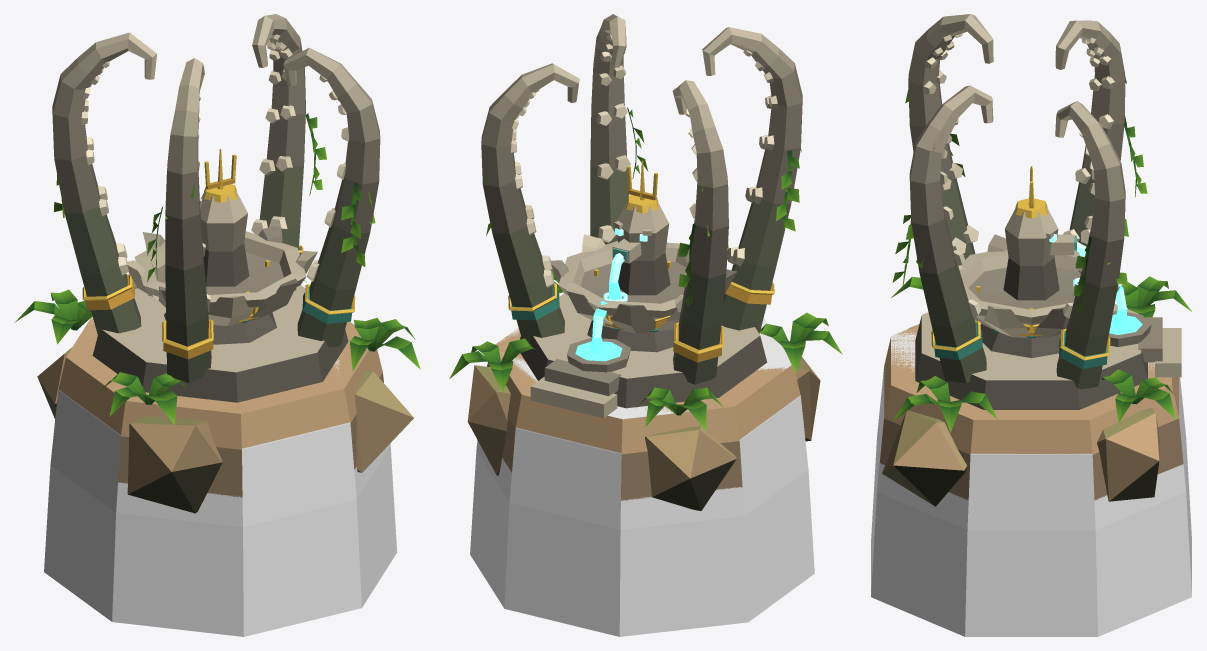
Rendered from ancient_kraken_stone_fountain.glb.
3 renders of one model, left to right at view 1: azimuth 30°, elevation 25°; view 2: azimuth 150°, elevation 25°; view 3: azimuth 270°, elevation 25°, orthographic. The views are drawn at different scales.
Visible parts, largest first — view 1: AncientKrakenStoneFountain, col_kraken_base; view 2: AncientKrakenStoneFountain, col_kraken_base; view 3: AncientKrakenStoneFountain, col_kraken_base.
Boxes of the visible parts, x1,y1,x2,y2 form: AncientKrakenStoneFountain: [14, 14, 420, 513]; col_kraken_base: [44, 317, 397, 636]; AncientKrakenStoneFountain: [449, 14, 842, 510]; col_kraken_base: [470, 318, 814, 636]; AncientKrakenStoneFountain: [879, 14, 1191, 506]; col_kraken_base: [871, 330, 1191, 636].
Bounding box in the file's own units: 5.5 × 9.12 × 5.04.
